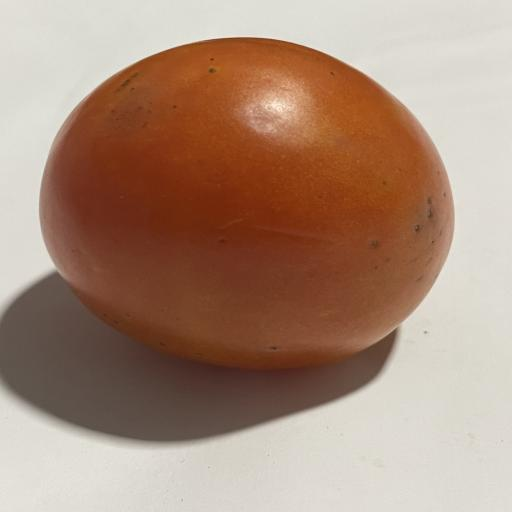unripe: (40, 38, 454, 368)
